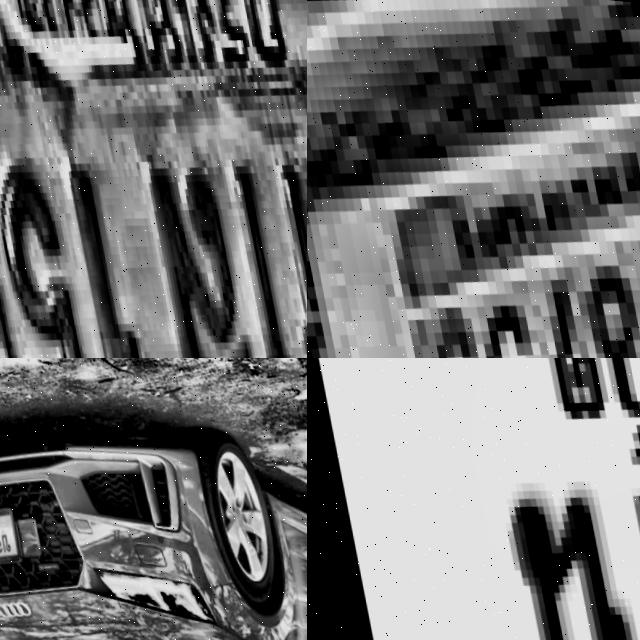license-plate: (307, 0, 640, 358), (0, 0, 307, 358), (307, 358, 640, 640), (0, 499, 20, 568)
